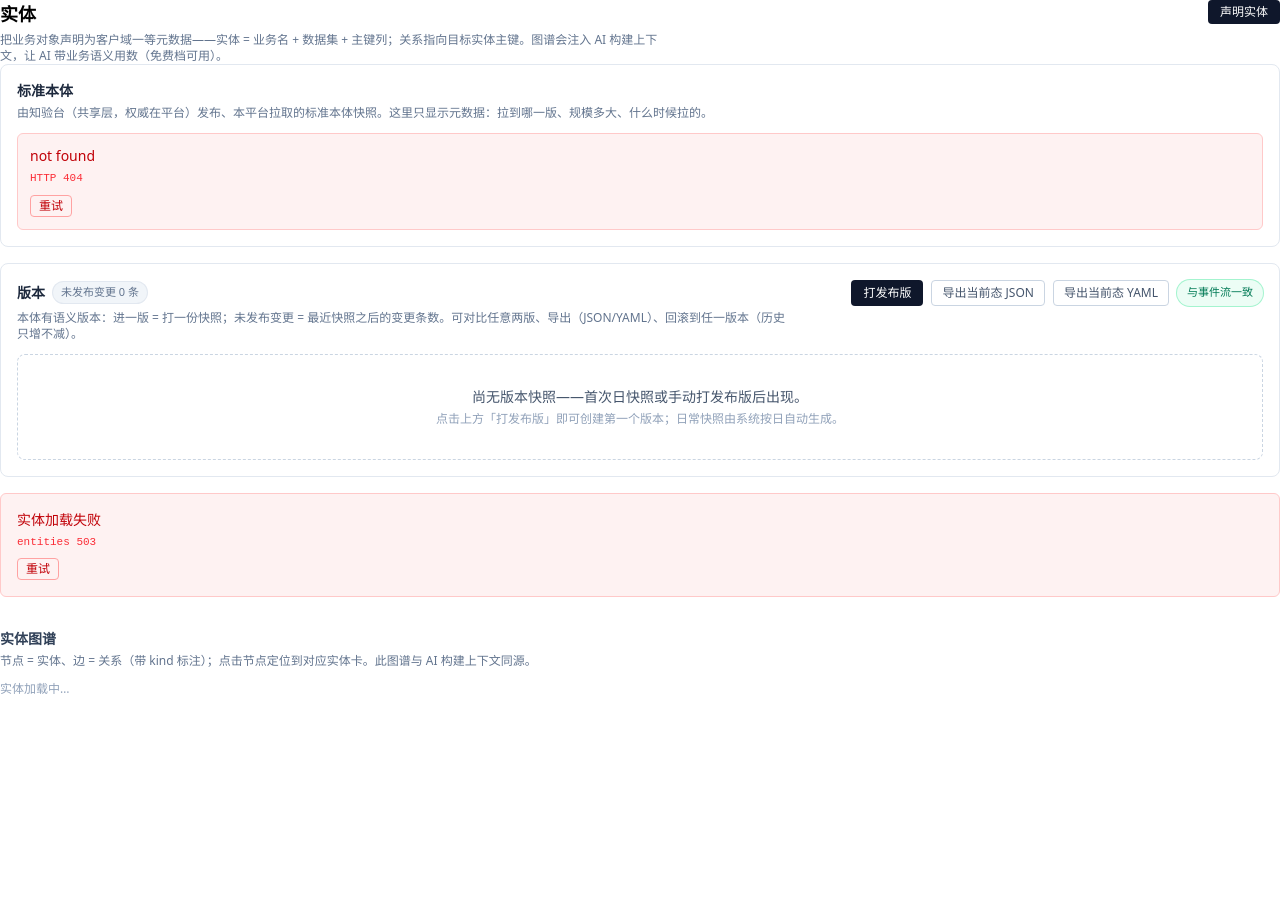
EntitiesPage 三区渲染（实体卡 + 关系行 + SVG 图谱） › 加载失败：错误如实呈现 + 重试恢复
Expected: the element with test id "entities-error" shows "实体加载失败", [17,510,101,528]
Click the button with test id "entities-retry" at (38, 569), box [17,558,59,580]
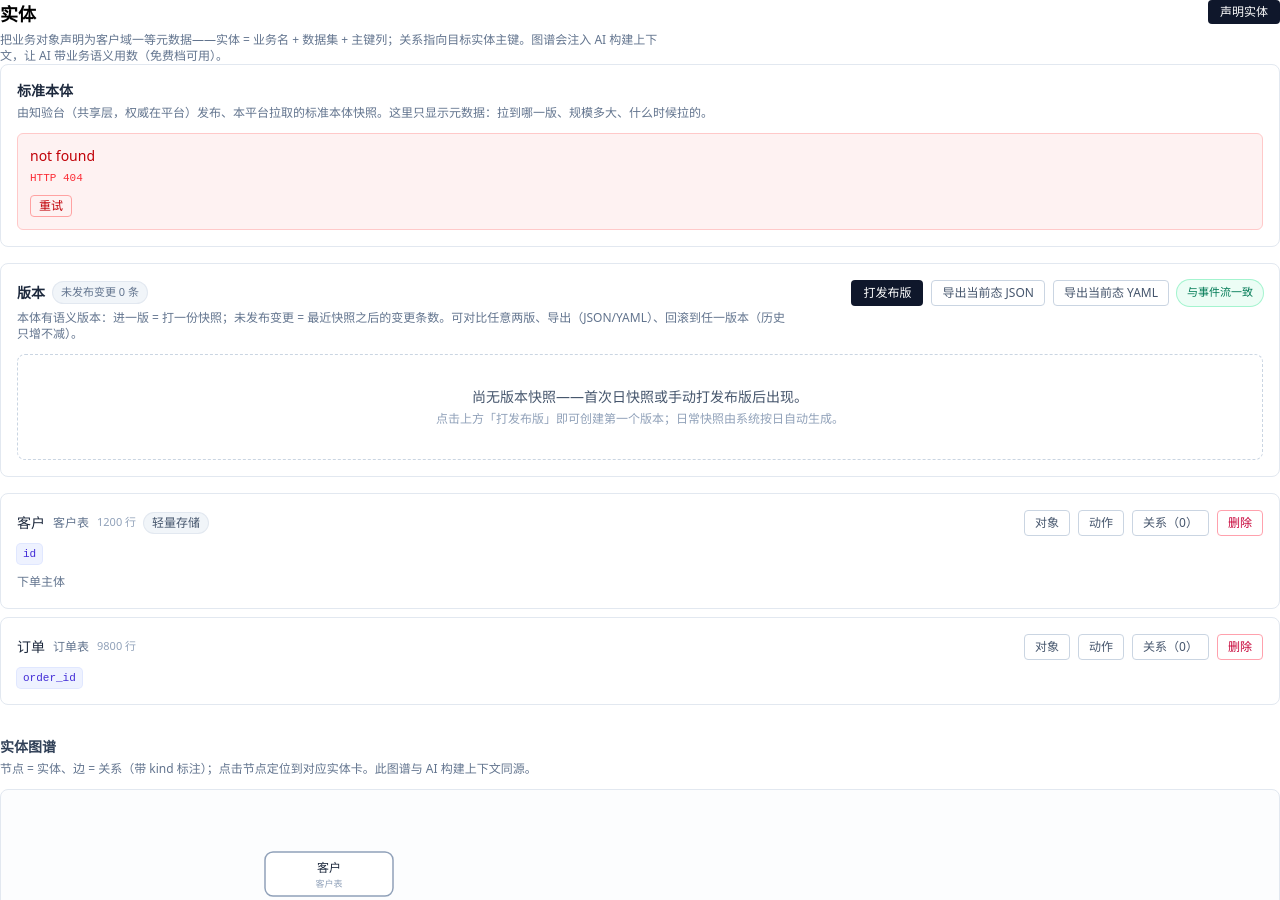
Result: the number of list items with test id "entity-card" is 2 at [0,492,1279,608]; [0,616,1279,705]
